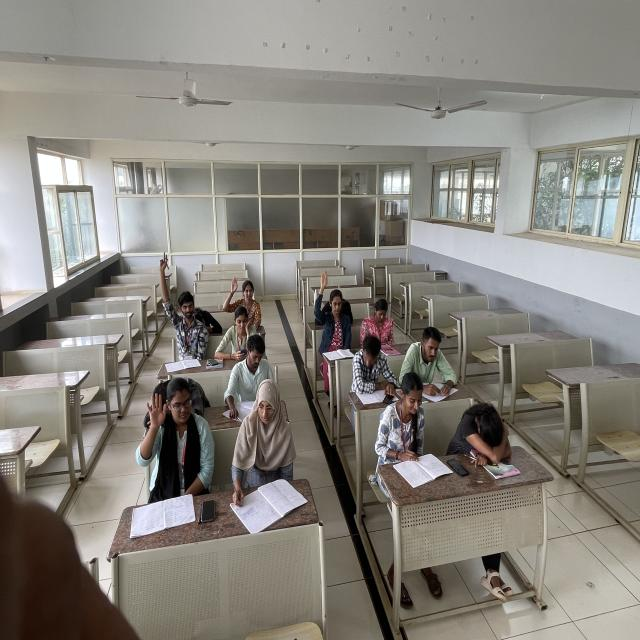Hand Rising: (141, 383, 213, 492), (150, 246, 206, 358), (313, 270, 355, 350), (223, 264, 267, 322)
Reading: (382, 370, 447, 480), (228, 335, 277, 414)
Sleeping: (458, 401, 514, 462)
Using Phone: (213, 305, 260, 367), (360, 302, 397, 349)
Writing: (230, 385, 292, 522), (407, 326, 458, 402)
